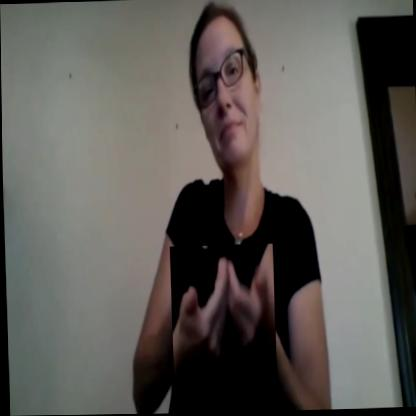HowAreYou: (169, 244, 276, 387)
